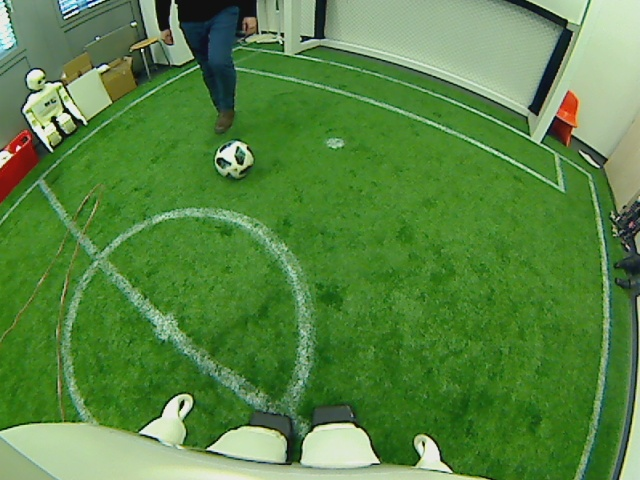ball: (213, 137, 254, 180)
